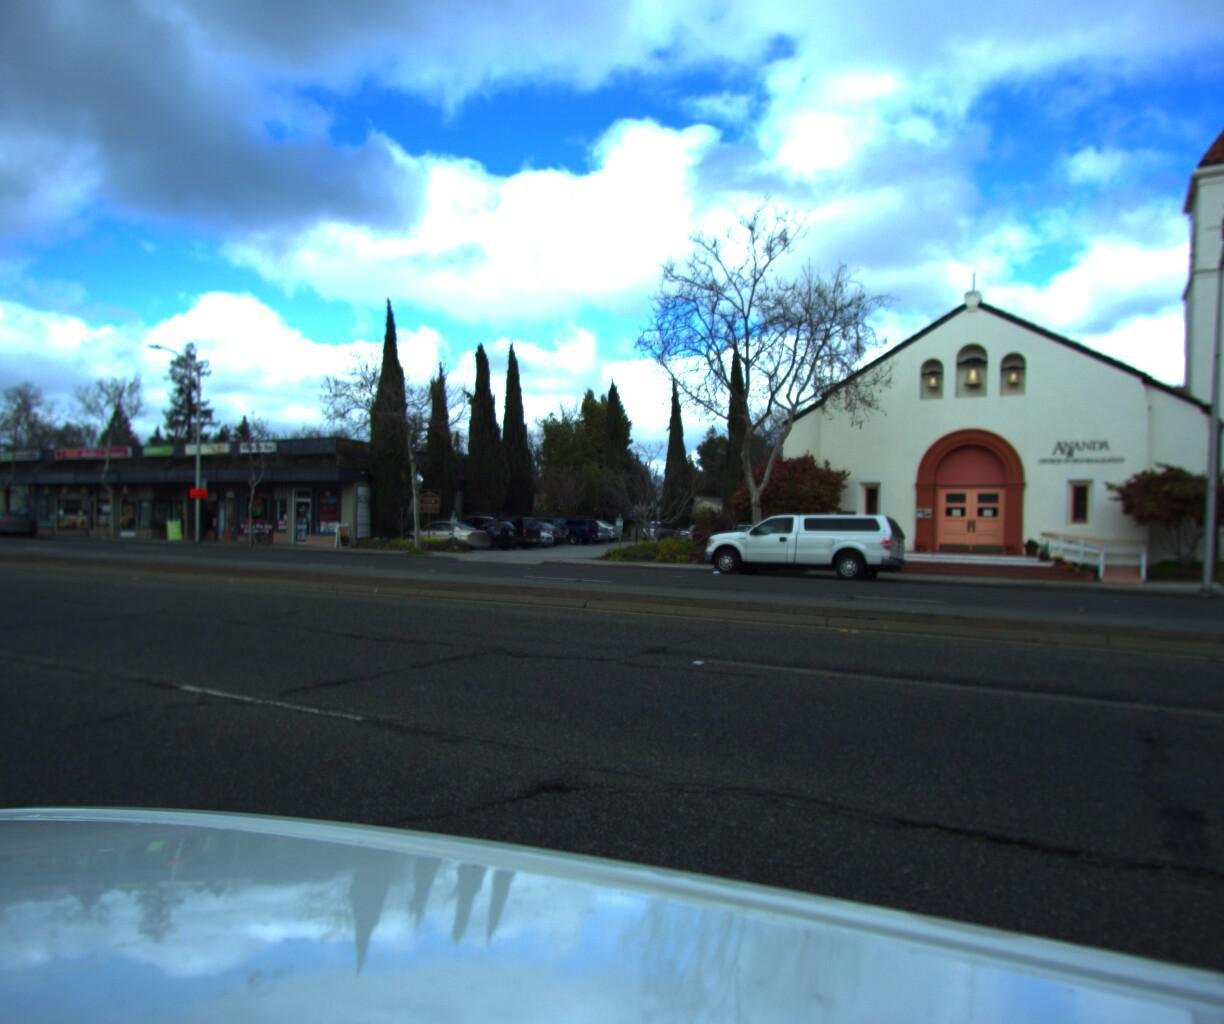bicycle: (236, 520, 276, 542)
car: (687, 505, 911, 586), (388, 513, 493, 550), (421, 509, 522, 546), (450, 509, 546, 545), (0, 506, 44, 536)
